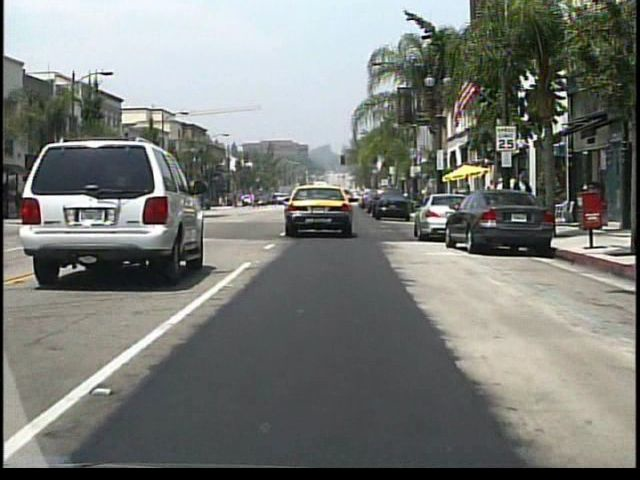person: (510, 171, 533, 223), (520, 178, 535, 220), (498, 178, 513, 219), (510, 182, 523, 217), (270, 191, 278, 206)
